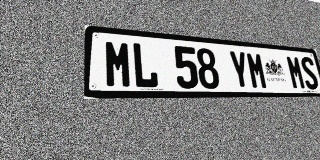5: (174, 46, 200, 89)
8: (195, 47, 220, 89)
L: (132, 42, 159, 88)
M: (104, 40, 133, 88), (245, 52, 268, 89), (285, 55, 307, 89)
S: (299, 56, 320, 89)
Y: (228, 50, 252, 89)
